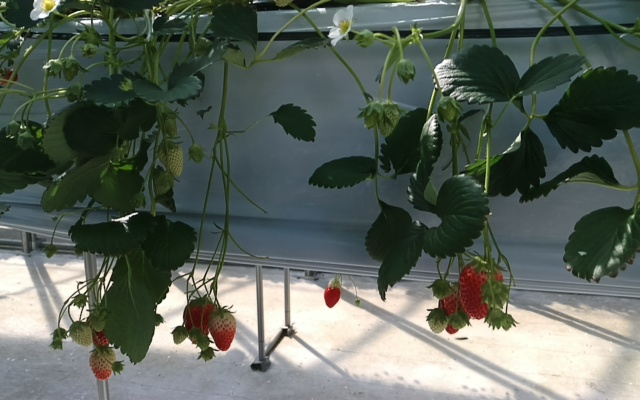GreenStrawberry: (155, 138, 184, 178), (210, 308, 236, 351), (88, 346, 120, 380), (376, 98, 400, 138), (65, 320, 93, 347), (157, 106, 179, 140), (360, 102, 383, 130), (152, 169, 173, 198), (427, 307, 448, 335), (89, 309, 108, 331)
MatureStrawberry: (457, 256, 505, 321), (438, 277, 472, 336), (182, 295, 216, 349), (322, 285, 341, 308)
